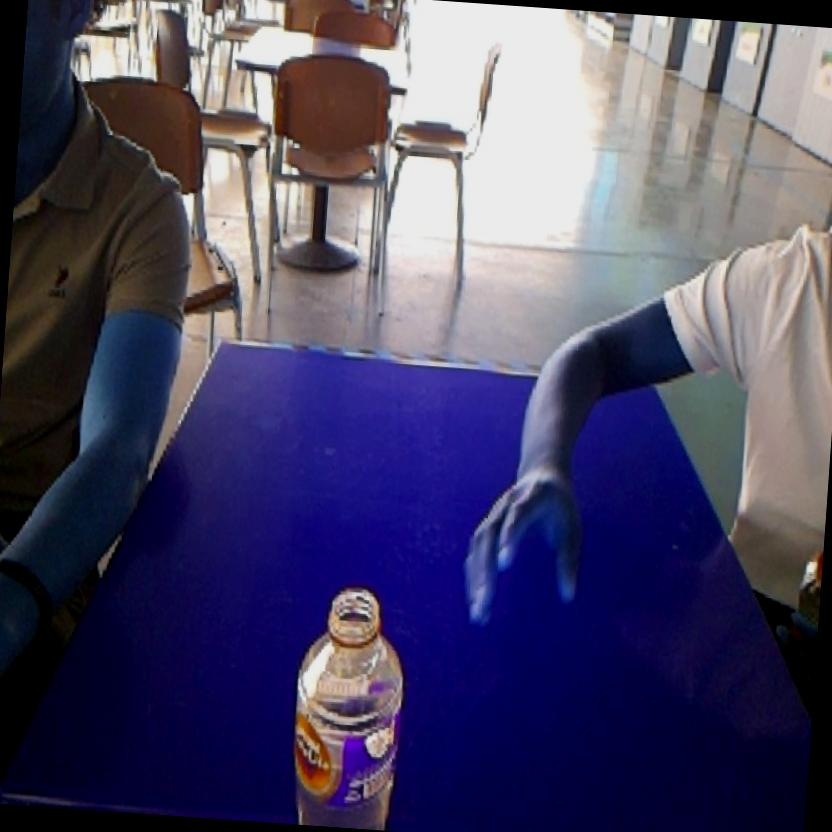no_cap: (272, 569, 420, 831)
